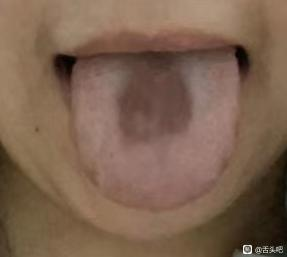baitaishe: (71, 52, 240, 210)
botaishe: (110, 63, 200, 149)
chihenshe: (207, 117, 240, 190)
